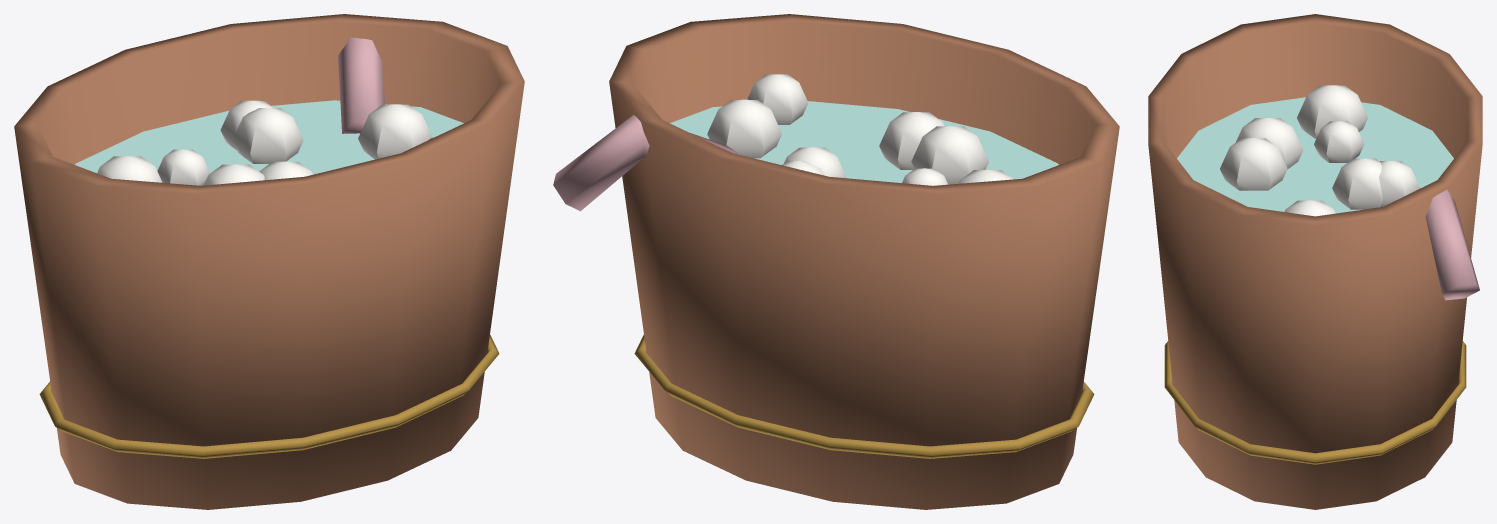
Rendered from laundry_tub.glb.
3 renders of one model, left to right at view 1: azimuth 30°, elevation 25°; view 2: azimuth 150°, elevation 25°; view 3: azimuth 270°, elevation 25°, orthographic. The views are drawn at different scales.
Parts seen in each view (by area): view 1: laundry_tub; view 2: laundry_tub; view 3: laundry_tub.
Part boxes in pixels (<box>): laundry_tub: <box>14,14,524,509</box>; laundry_tub: <box>553,14,1119,509</box>; laundry_tub: <box>1148,14,1482,509</box>.
Size of what is drawn, in the model's own units: 1.2 by 0.8 by 0.8.
